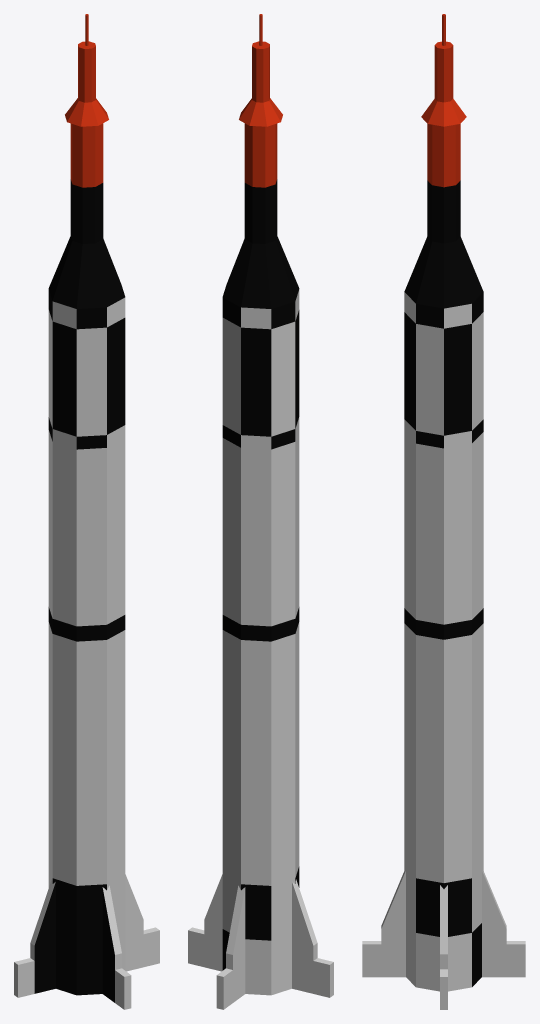
Rendered from Mercury Redstone.fbx.
The picture shows the model from 3 angles, left to right: view 1: azimuth 30°, elevation 25°; view 2: azimuth 150°, elevation 25°; view 3: azimuth 270°, elevation 25°; orthographic projection.
Visible parts, largest first — view 1: Mercury Redstone; view 2: Mercury Redstone; view 3: Mercury Redstone.
Boxes of the visible parts, left/top/right/bottom form: Mercury Redstone: left=14, top=14, right=159, bottom=1009; Mercury Redstone: left=188, top=14, right=333, bottom=1009; Mercury Redstone: left=362, top=14, right=525, bottom=1009.
Bounding box in the file's own units: 59.24 × 385 × 59.24.
